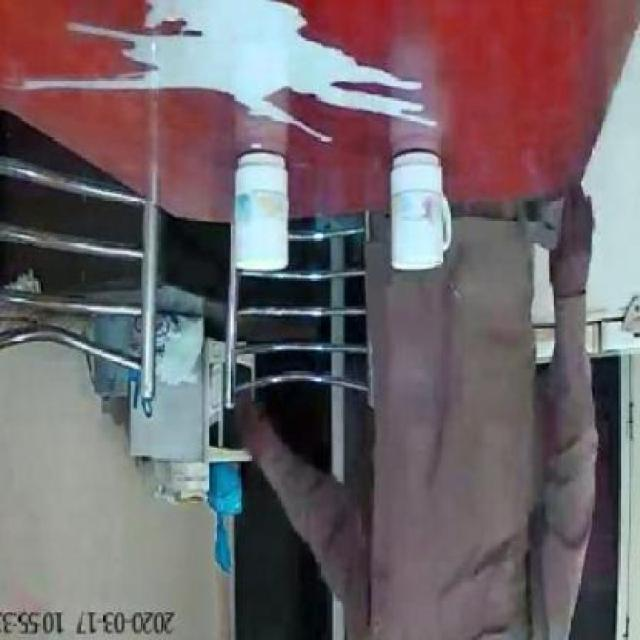spillage: (31, 0, 438, 132)
